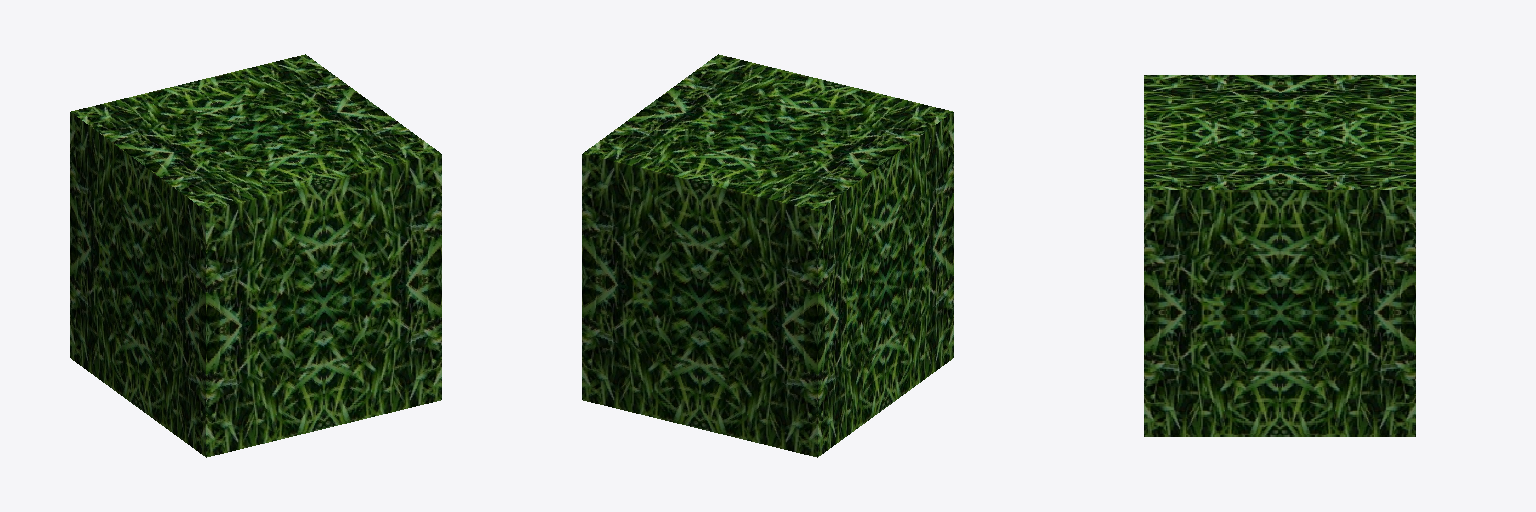
3 views of the same model, side by side, from view 1: azimuth 30°, elevation 25°; view 2: azimuth 150°, elevation 25°; view 3: azimuth 270°, elevation 25° (orthographic).
Visible parts, largest first — view 1: cube; view 2: cube; view 3: cube.
Part boxes in pixels (left/top/right/bottom): cube: left=70, top=54, right=441, bottom=457; cube: left=582, top=54, right=953, bottom=457; cube: left=1144, top=75, right=1415, bottom=436.
Size of the model in its own units: 1 by 1 by 1.
1 materials, 1 textured.